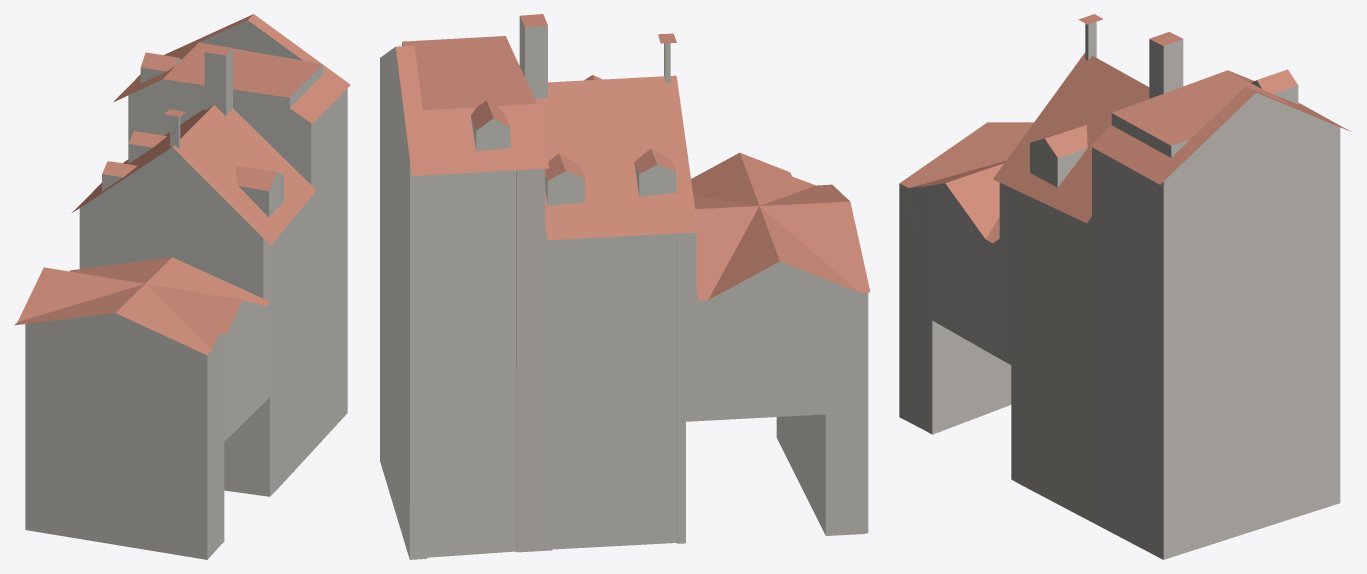
3 views of the same model, side by side, from view 1: azimuth 30°, elevation 25°; view 2: azimuth 150°, elevation 25°; view 3: azimuth 270°, elevation 25° (orthographic). The views are drawn at different scales.
Parts seen in each view (by area): view 1: swisstopo:swissbuildings3d:8c71a773-5cce-4b9a-a1ee-e8474ca34; view 2: swisstopo:swissbuildings3d:8c71a773-5cce-4b9a-a1ee-e8474ca34; view 3: swisstopo:swissbuildings3d:8c71a773-5cce-4b9a-a1ee-e8474ca34.
Part boxes in pixels (<box>): swisstopo:swissbuildings3d:8c71a773-5cce-4b9a-a1ee-e8474ca34: <box>14,14,350,559</box>; swisstopo:swissbuildings3d:8c71a773-5cce-4b9a-a1ee-e8474ca34: <box>380,14,870,559</box>; swisstopo:swissbuildings3d:8c71a773-5cce-4b9a-a1ee-e8474ca34: <box>899,14,1351,559</box>.
Bounding box in the file's own units: 23.53 × 23.9 × 21.82.
